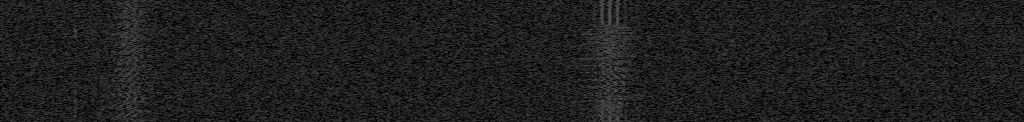wv_usb: (73, 20, 79, 50), (73, 89, 78, 121), (73, 2, 78, 18), (73, 80, 77, 86), (73, 71, 77, 77), (73, 62, 77, 68), (73, 55, 77, 58)
wv_wbfm: (568, 0, 648, 122), (101, 0, 164, 122)
